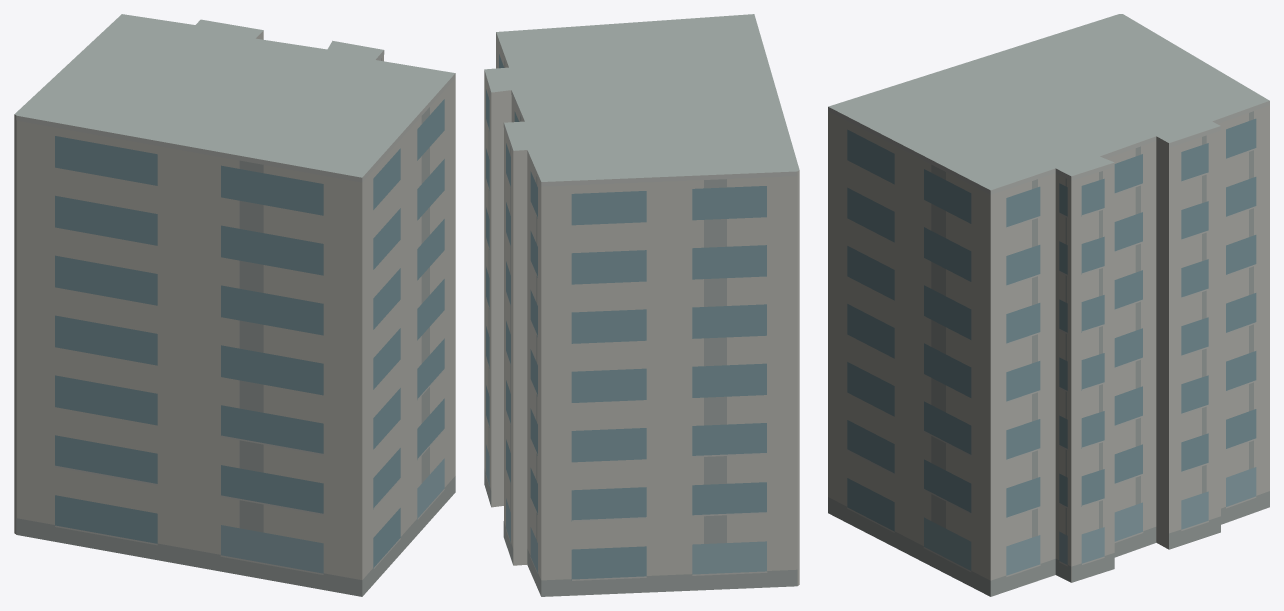
File: survey-upis-32686209.glb
The picture shows the model from 3 angles, left to right: view 1: azimuth 30°, elevation 25°; view 2: azimuth 150°, elevation 25°; view 3: azimuth 270°, elevation 25°; orthographic projection. The views are drawn at different scales.
Visible parts, largest first — view 1: survey-upis-32686209.tmp; view 2: survey-upis-32686209.tmp; view 3: survey-upis-32686209.tmp.
Boxes of the visible parts, x1=… form: survey-upis-32686209.tmp: x1=14, y1=14, x2=455, y2=596; survey-upis-32686209.tmp: x1=484, y1=14, x2=799, y2=596; survey-upis-32686209.tmp: x1=828, y1=14, x2=1269, y2=596.
Size of the model in its own units: 19.74 by 21.2 by 20.89.
